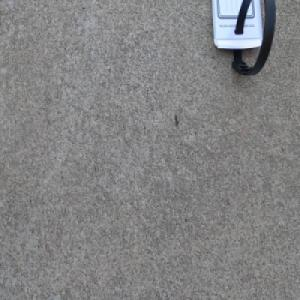LuggageTag: (209, 0, 277, 80)
